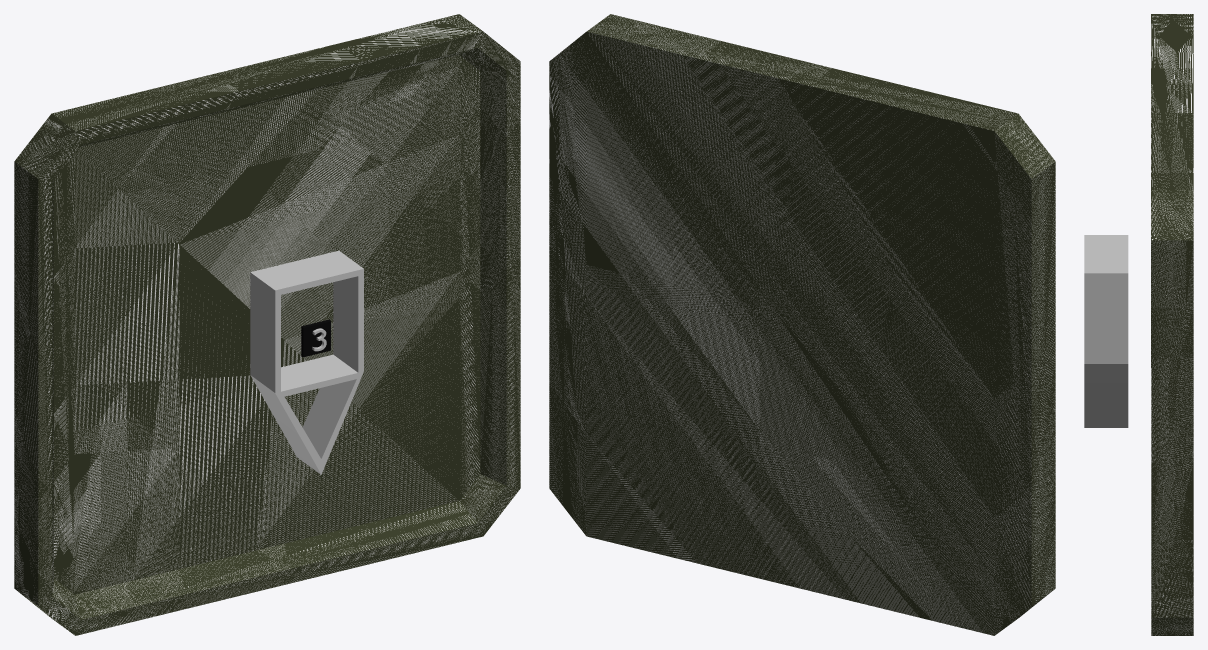
3 renders of one model, left to right at view 1: azimuth 30°, elevation 25°; view 2: azimuth 150°, elevation 25°; view 3: azimuth 270°, elevation 25°, orthographic. The views are drawn at different scales.
Visible parts, largest first — view 1: Button.001_ID13, Button_ID3, SM_CM_-_3_path1763-2.062; view 2: Button_ID3; view 3: Button_ID3, SM_CM_-_3_path1763-2.062.
Boxes of the visible parts, x1,y1,x2,y2 form: Button.001_ID13: (52, 47, 506, 619); Button_ID3: (14, 14, 520, 635); SM_CM_-_3_path1763-2.062: (250, 250, 363, 474); Button_ID3: (549, 14, 1055, 635); Button_ID3: (1151, 14, 1193, 635); SM_CM_-_3_path1763-2.062: (1084, 235, 1128, 427).
Size of the model in its own units: 1 by 1 by 0.2225.
